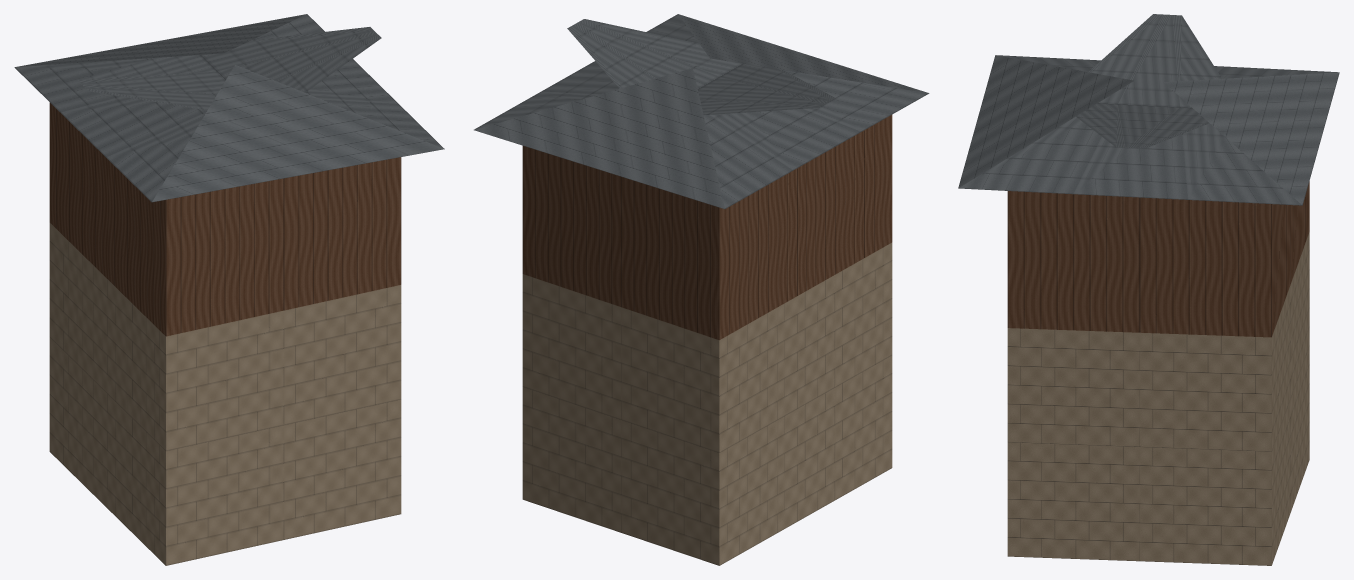
Rendered from bld_c-4_-9_597.gltf.
3 views of the same model, side by side, from view 1: azimuth 30°, elevation 25°; view 2: azimuth 150°, elevation 25°; view 3: azimuth 270°, elevation 25° (orthographic).
Parts seen in each view (by area): view 1: bld_c-4_-9_597; view 2: bld_c-4_-9_597; view 3: bld_c-4_-9_597.
Part boxes in pixels (x1,y1,x2,y2): bld_c-4_-9_597: [14, 14, 444, 565]; bld_c-4_-9_597: [474, 14, 929, 565]; bld_c-4_-9_597: [958, 14, 1339, 565].
Bounding box in the file's own units: 6.59 × 8.7 × 7.06.
Materials: 3 (3 with a texture image).
